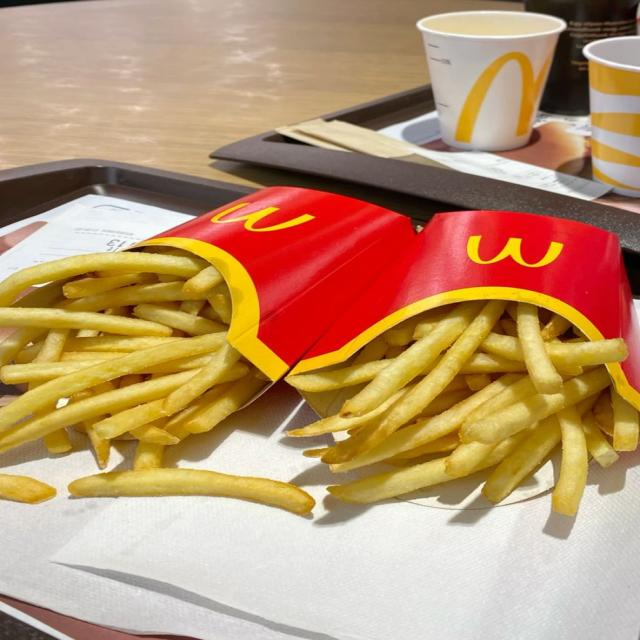potato fries: (0, 248, 313, 513), (287, 301, 638, 514), (69, 469, 314, 514)
